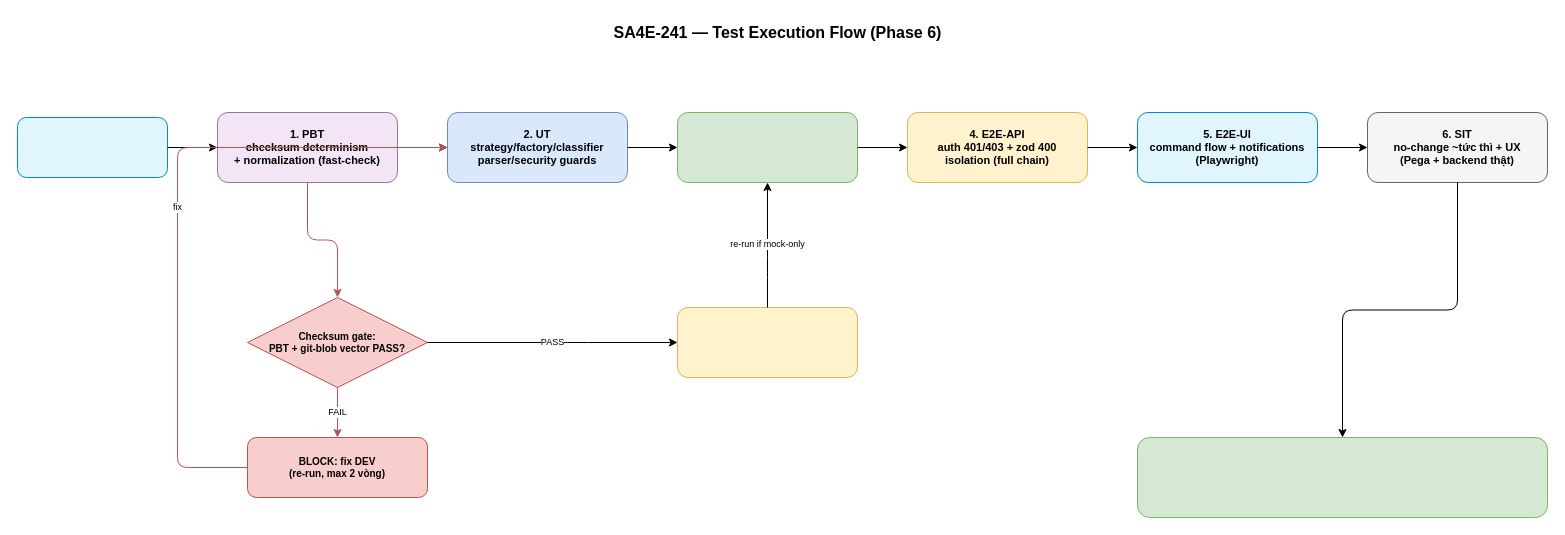
The diagram is 1565 pixels wide and 535 high, and some of its shapes have lost their labels. The centre of each missing label's shape, as x and y in pixels:
3. IT bulk-check + delta + migration regression (DB thật): the point at 767,147
Entry: build pass fixtures ready: the point at 92,147
Exit: 100% High PASS RTM 100% · 0 Critical/High mở → Pentest (6.3) → UAT: the point at 1342,477
SM review test-code quality (IT không mock hết — Step 6d): the point at 767,342
